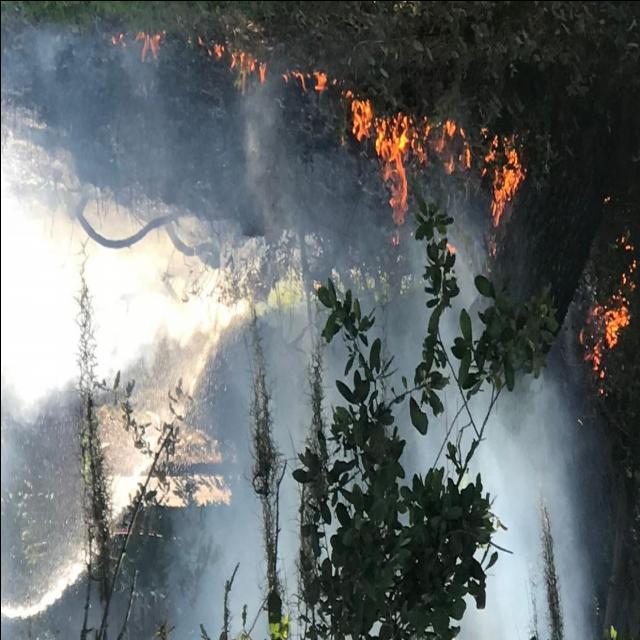Fire: (340, 86, 522, 238), (576, 241, 636, 397), (200, 34, 264, 89), (100, 24, 162, 70), (281, 64, 326, 106)
